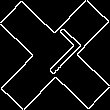L_SW: (26, 26, 84, 84)
